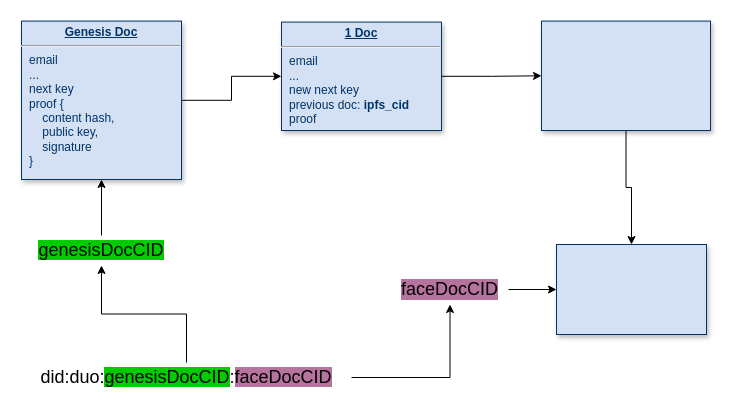
Image size: 734x410. Some labels were removed from this diagram. Each missing label, with the centre of its shape:
2 Doc email ... next key previous doc: ipfs_cid proof: point 626,77
Face Doc ID last doc: ipfs_cid genesis doc: ipfs_cid: point 632,291
